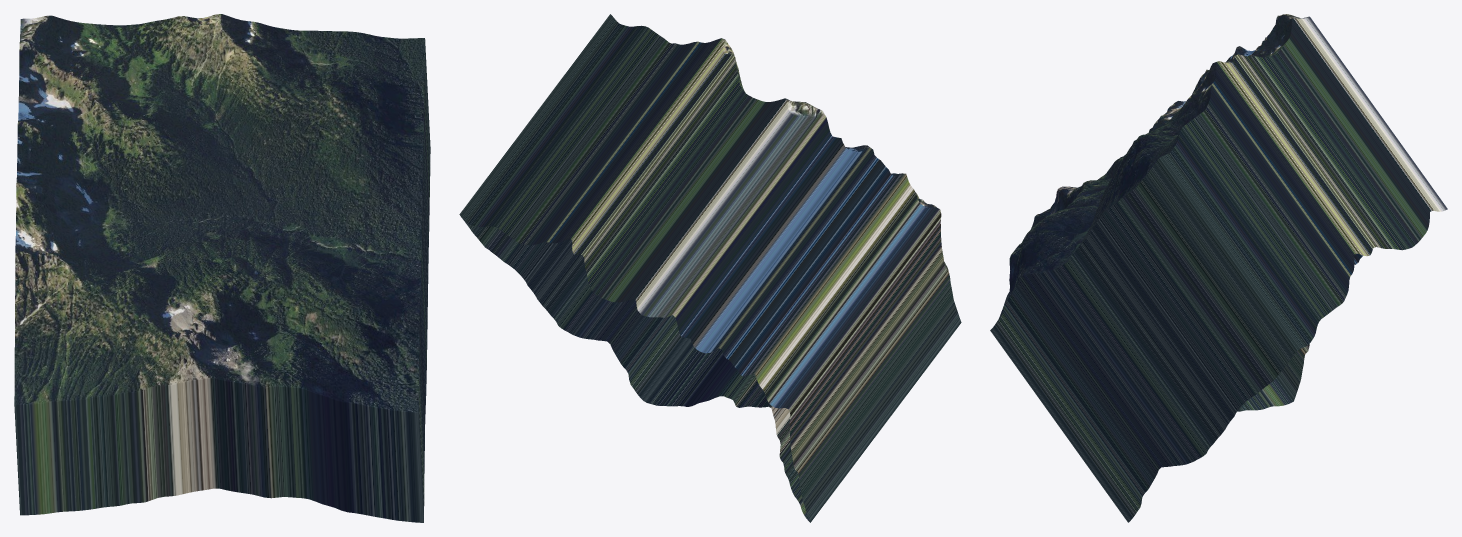
The picture shows the model from 3 angles, left to right: view 1: azimuth 30°, elevation 25°; view 2: azimuth 150°, elevation 25°; view 3: azimuth 270°, elevation 25°; orthographic projection. The views are drawn at different scales.
Bounding box in the file's own units: 5897 × 5637 × 5794.
1 material, 1 textured.
